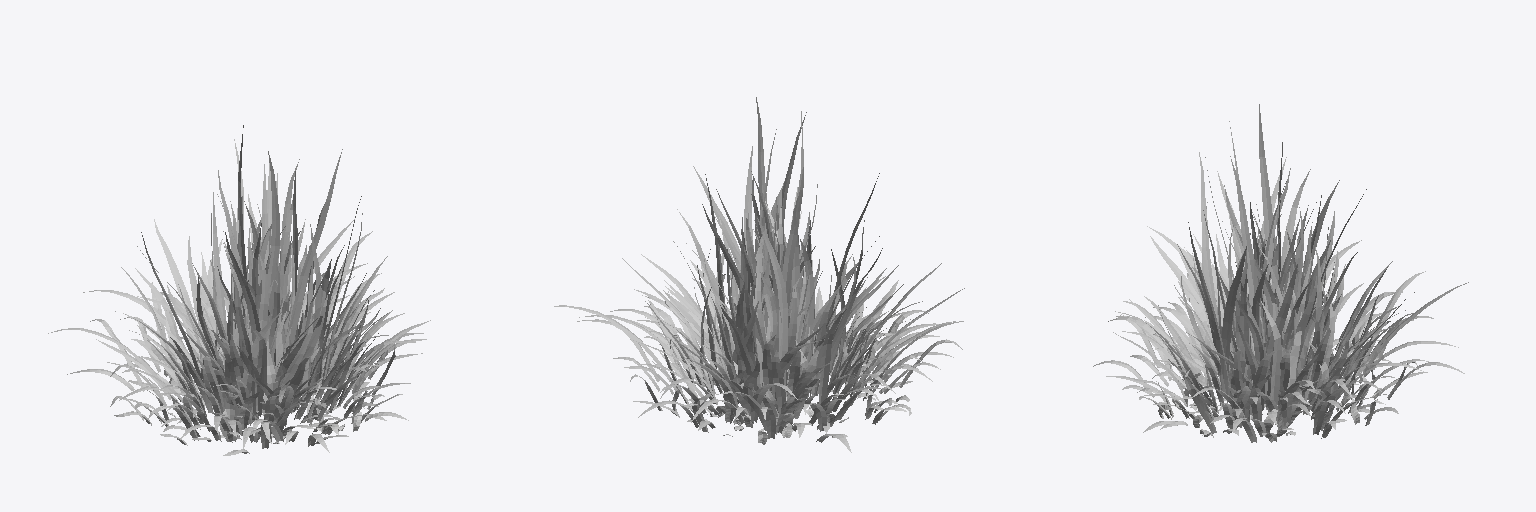
File: grass.obj
3 renders of one model, left to right at view 1: azimuth 30°, elevation 25°; view 2: azimuth 150°, elevation 25°; view 3: azimuth 270°, elevation 25°, orthographic.
Parts seen in each view (by area): view 1: Roses_Orange_Mf_Grass_0; view 2: Roses_Orange_Mf_Grass_0; view 3: Roses_Orange_Mf_Grass_0.
Part boxes in pixels (bbox=[...]): Roses_Orange_Mf_Grass_0: bbox=[48, 125, 430, 455]; Roses_Orange_Mf_Grass_0: bbox=[554, 97, 964, 452]; Roses_Orange_Mf_Grass_0: bbox=[1093, 104, 1468, 442].
Bounding box in the file's own units: 0.426 × 0.3484 × 0.4134.